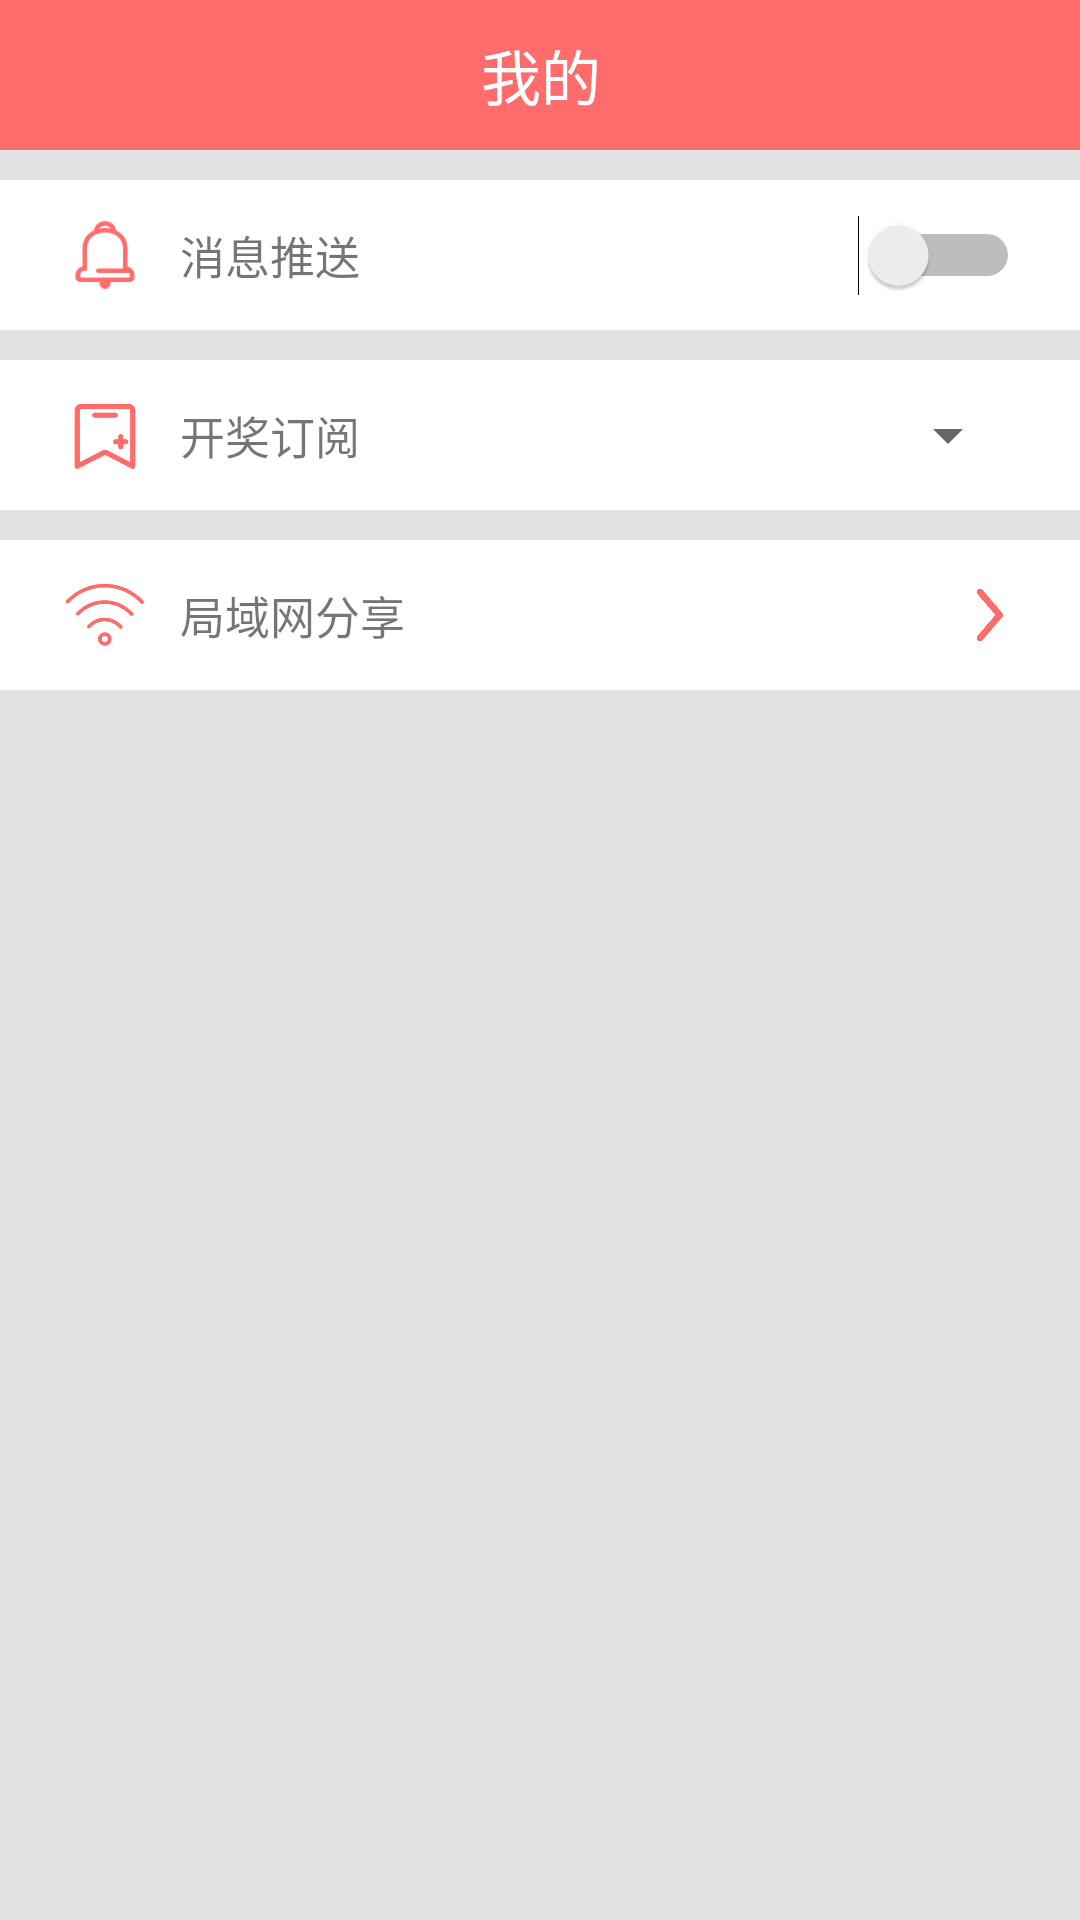

Screen size 1080px x 1920px. Icon name, then its box in pixels as region(x1, y1, x2, y2):
tuisong: region(75, 221, 135, 289)
wifis: region(66, 583, 144, 646)
